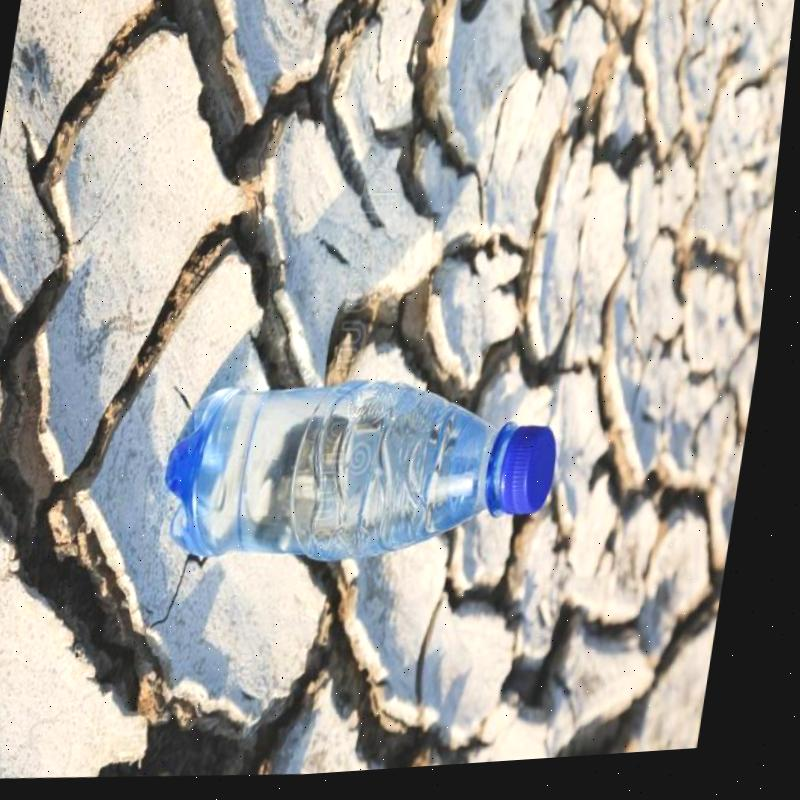botella: (163, 366, 578, 581)
